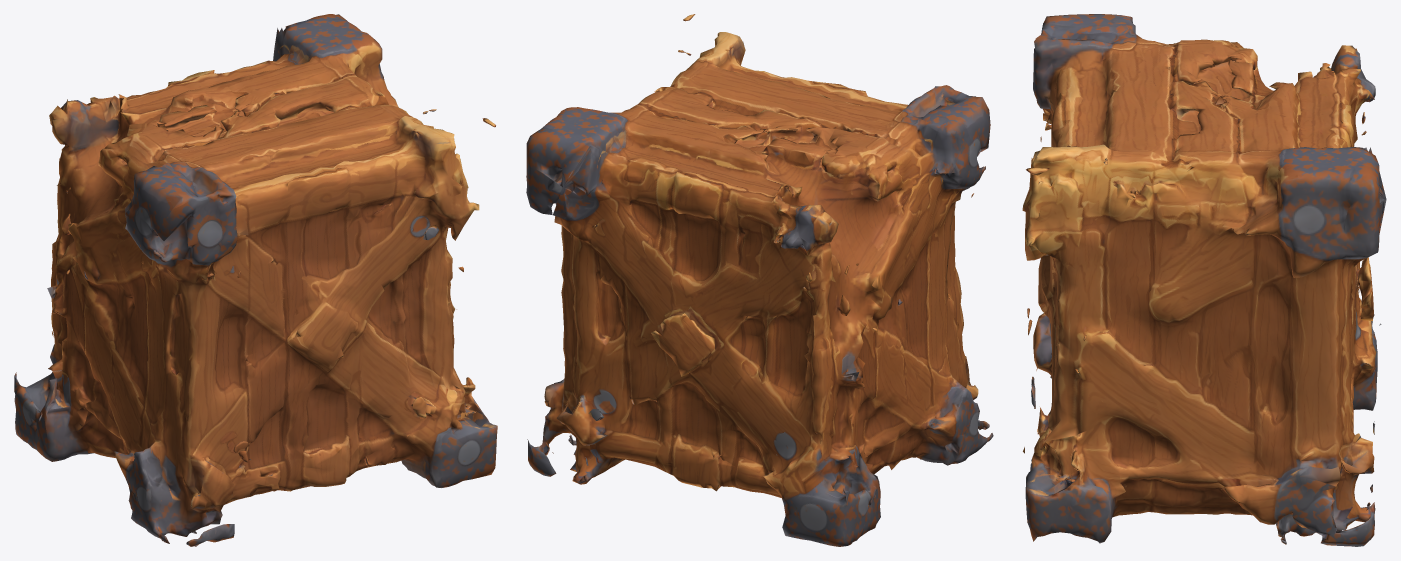
File: Debris_Crate.fbx
The picture shows the model from 3 angles, left to right: view 1: azimuth 30°, elevation 25°; view 2: azimuth 150°, elevation 25°; view 3: azimuth 270°, elevation 25°; orthographic projection. The views are drawn at different scales.
Visible parts, largest first — view 1: texture_mapping; view 2: texture_mapping; view 3: texture_mapping.
Part boxes in pixels (<box>): texture_mapping: <box>14,14,497,546</box>; texture_mapping: <box>526,14,993,546</box>; texture_mapping: <box>1022,14,1386,546</box>.
Size of the model in its own units: 0.952 by 0.8461 by 0.9663.
1 material, 1 textured.
